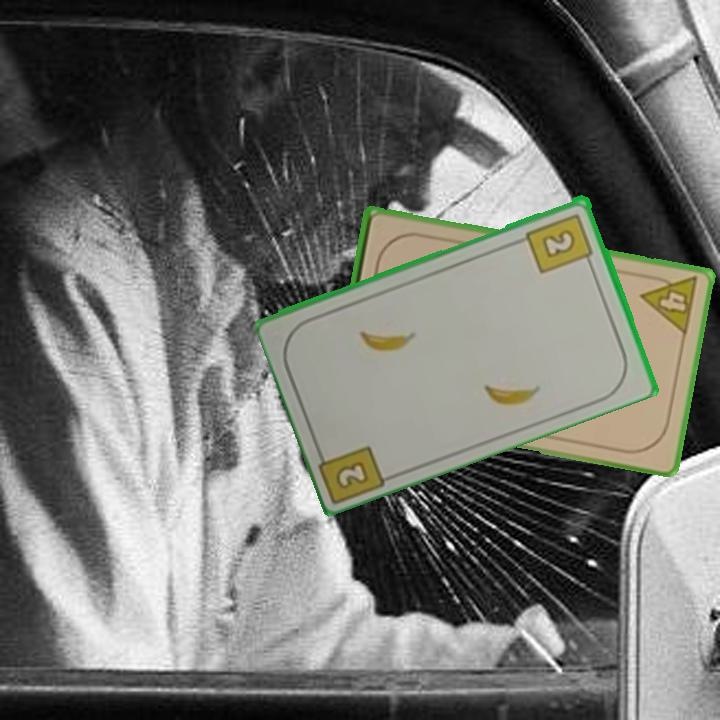2b: (312, 441, 390, 504), (523, 209, 596, 276)
4p: (637, 270, 701, 338)
